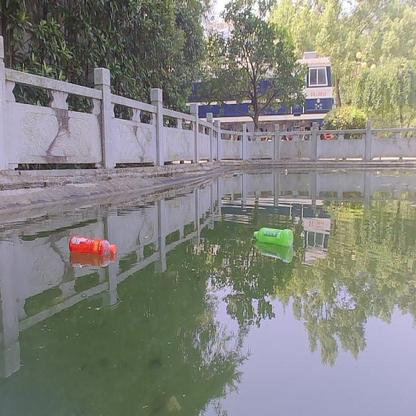plastic bottle: (69, 235, 117, 257), (253, 226, 295, 244)
